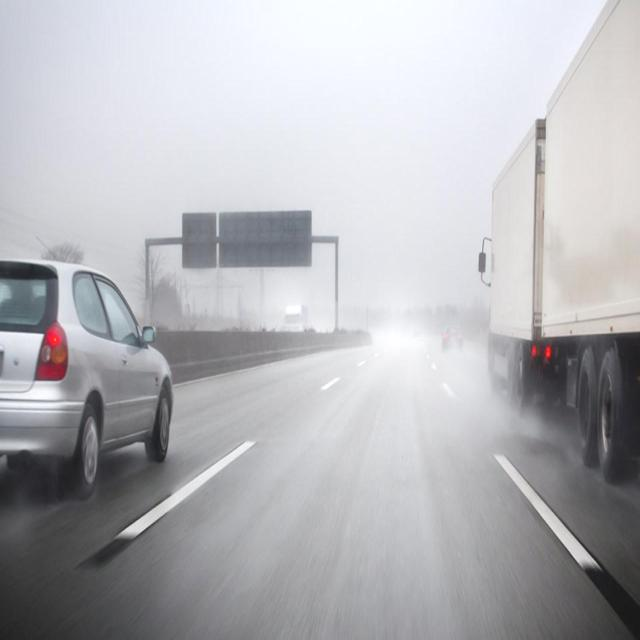Car: (0, 255, 174, 480)
Truck: (473, 0, 640, 474)
